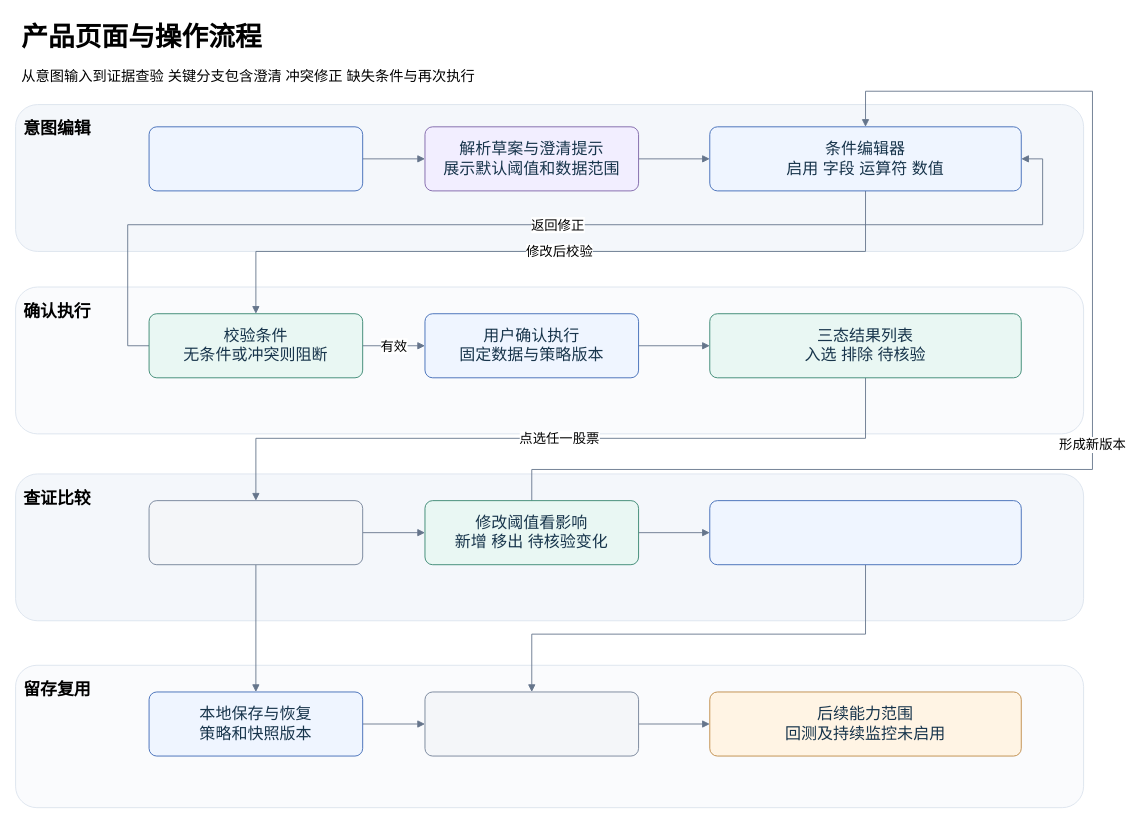
This 1141x823 diagram has some shape labels left out. Here are the shapes that lost their labels. From the top down, the centre of each, then its label:
At point (255, 158): "工作台 输入选股意图 或选择示例".
At point (255, 532): "逐股证据详情 实测值 阈值 原文 时点".
At point (865, 532): "选择最多三只比较 相同口径并排查证".
At point (531, 723): "导出 JSON 与 CSV 附条件及数据版本".
